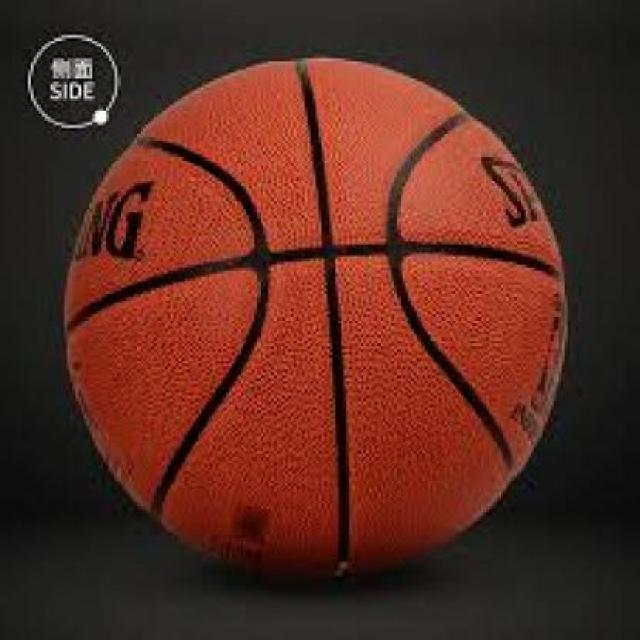basketball: (67, 58, 569, 568)
